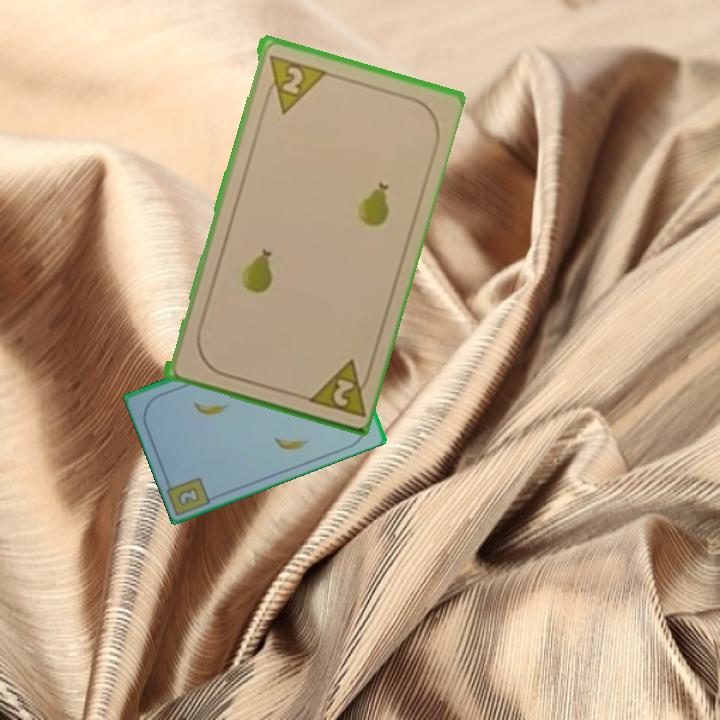2b: (174, 483, 203, 509)
2p: (301, 355, 375, 419), (261, 50, 327, 116)
